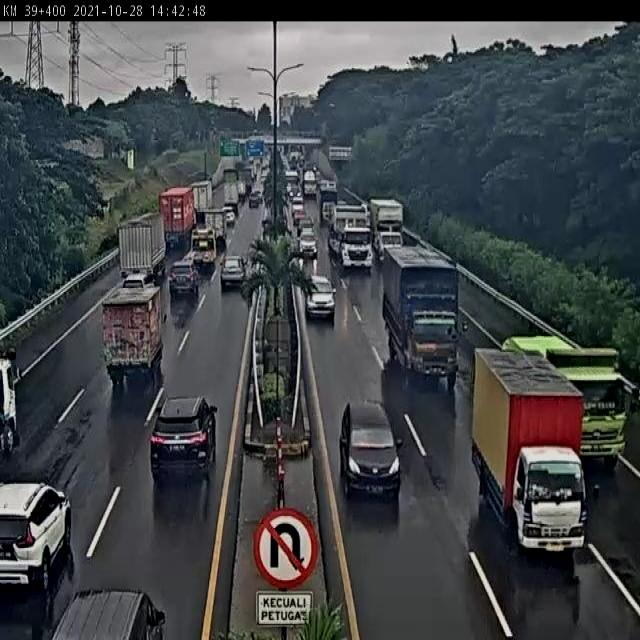Car: (0, 475, 73, 594), (335, 399, 407, 509), (49, 581, 170, 640), (148, 392, 220, 484), (302, 276, 337, 320), (169, 262, 200, 293), (218, 252, 246, 283), (298, 232, 321, 258), (248, 191, 260, 214), (219, 207, 237, 220)
Truck: (471, 342, 590, 568), (500, 334, 631, 482), (383, 241, 469, 386), (100, 290, 168, 381), (328, 203, 375, 271), (120, 212, 167, 273), (158, 185, 195, 247), (370, 199, 405, 257), (182, 228, 216, 284), (318, 180, 339, 223), (206, 210, 228, 244), (222, 181, 240, 213), (192, 180, 214, 203), (304, 166, 319, 196)
